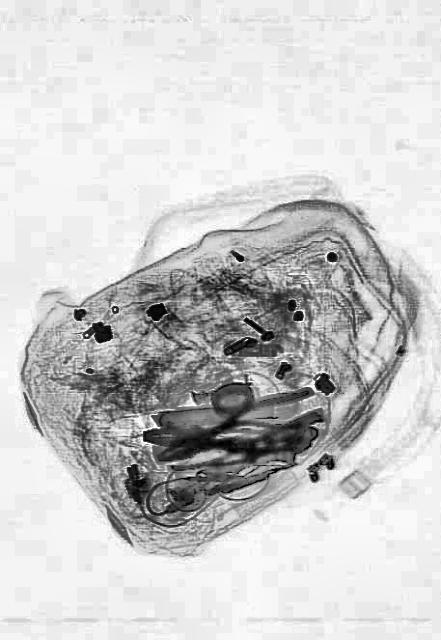Pliers: (151, 376, 323, 484)
